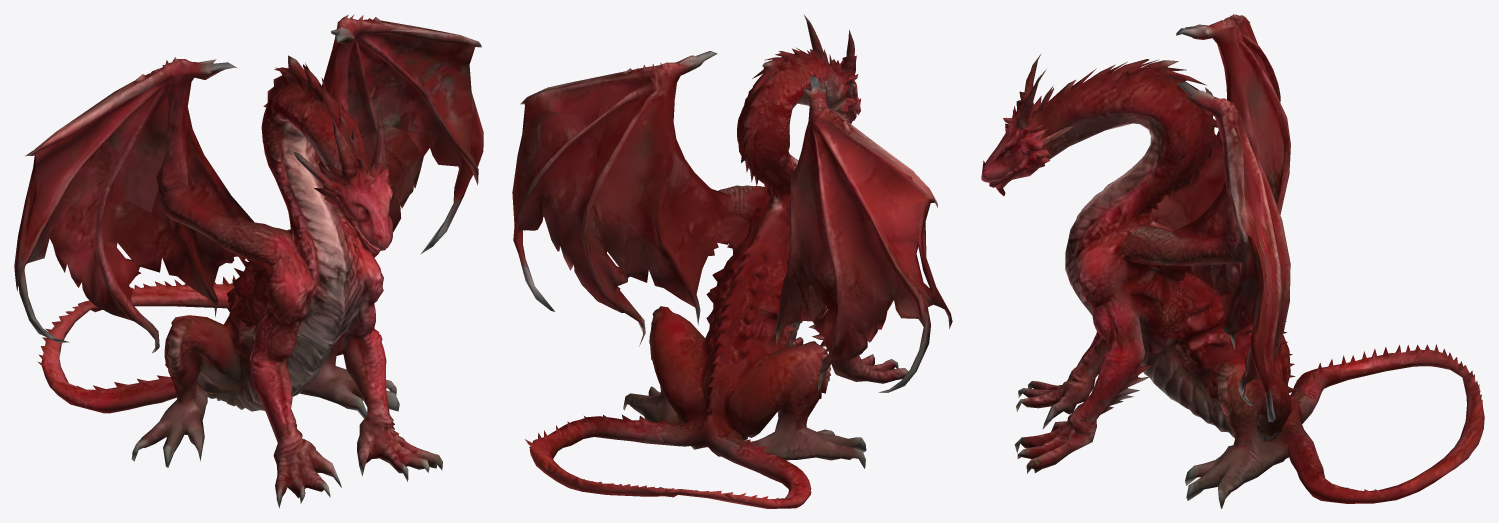
File: card.glb
The picture shows the model from 3 angles, left to right: view 1: azimuth 30°, elevation 25°; view 2: azimuth 150°, elevation 25°; view 3: azimuth 270°, elevation 25°; orthographic projection. The views are drawn at different scales.
Visible parts, largest first — view 1: model; view 2: model; view 3: model.
Part boxes in pixels (x1,y1,x2,y2): model: (14,14,483,508); model: (512,15,952,508); model: (981,14,1484,508).
Size of the model in its own units: 2 by 1.6 by 1.86.
Materials: 1 (1 with a texture image).
